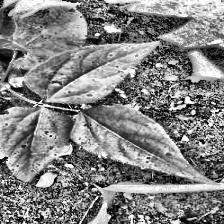ALS: (20, 40, 154, 106), (77, 109, 197, 177), (0, 106, 75, 184)
